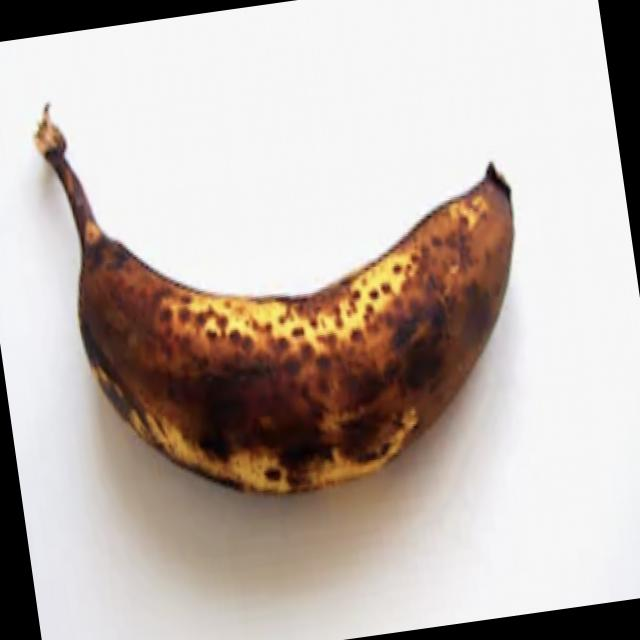rotten-banana: (54, 104, 548, 520)
